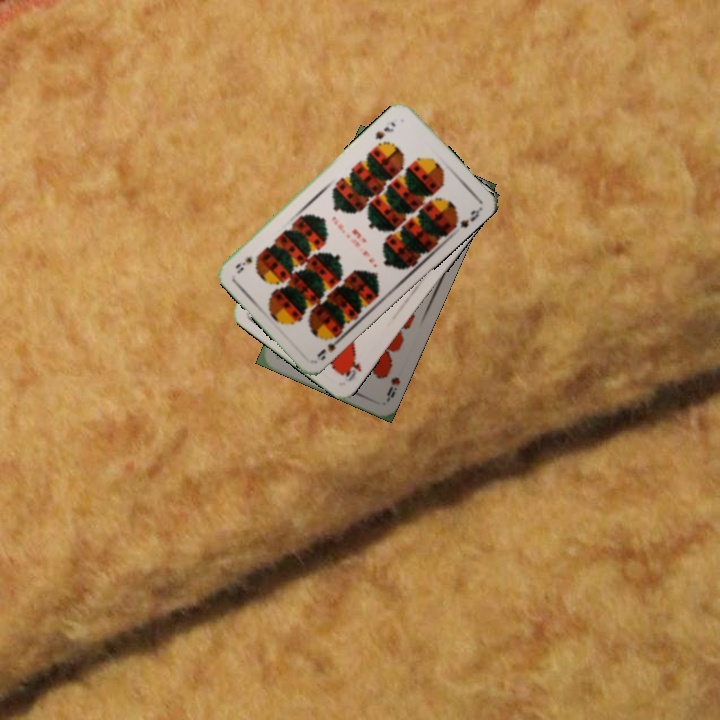H9: (383, 373, 403, 404)
HO: (338, 353, 364, 384)
S9: (313, 330, 346, 363), (371, 117, 398, 142)
